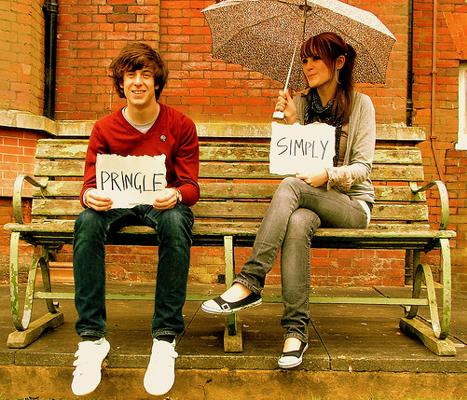person: (200, 32, 376, 372)
